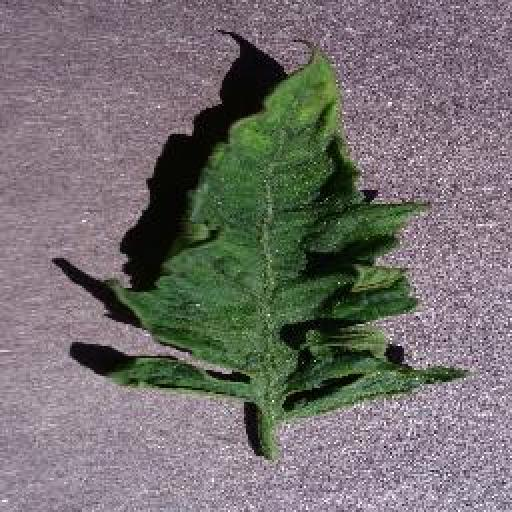disease_tomato: (94, 40, 470, 418)
